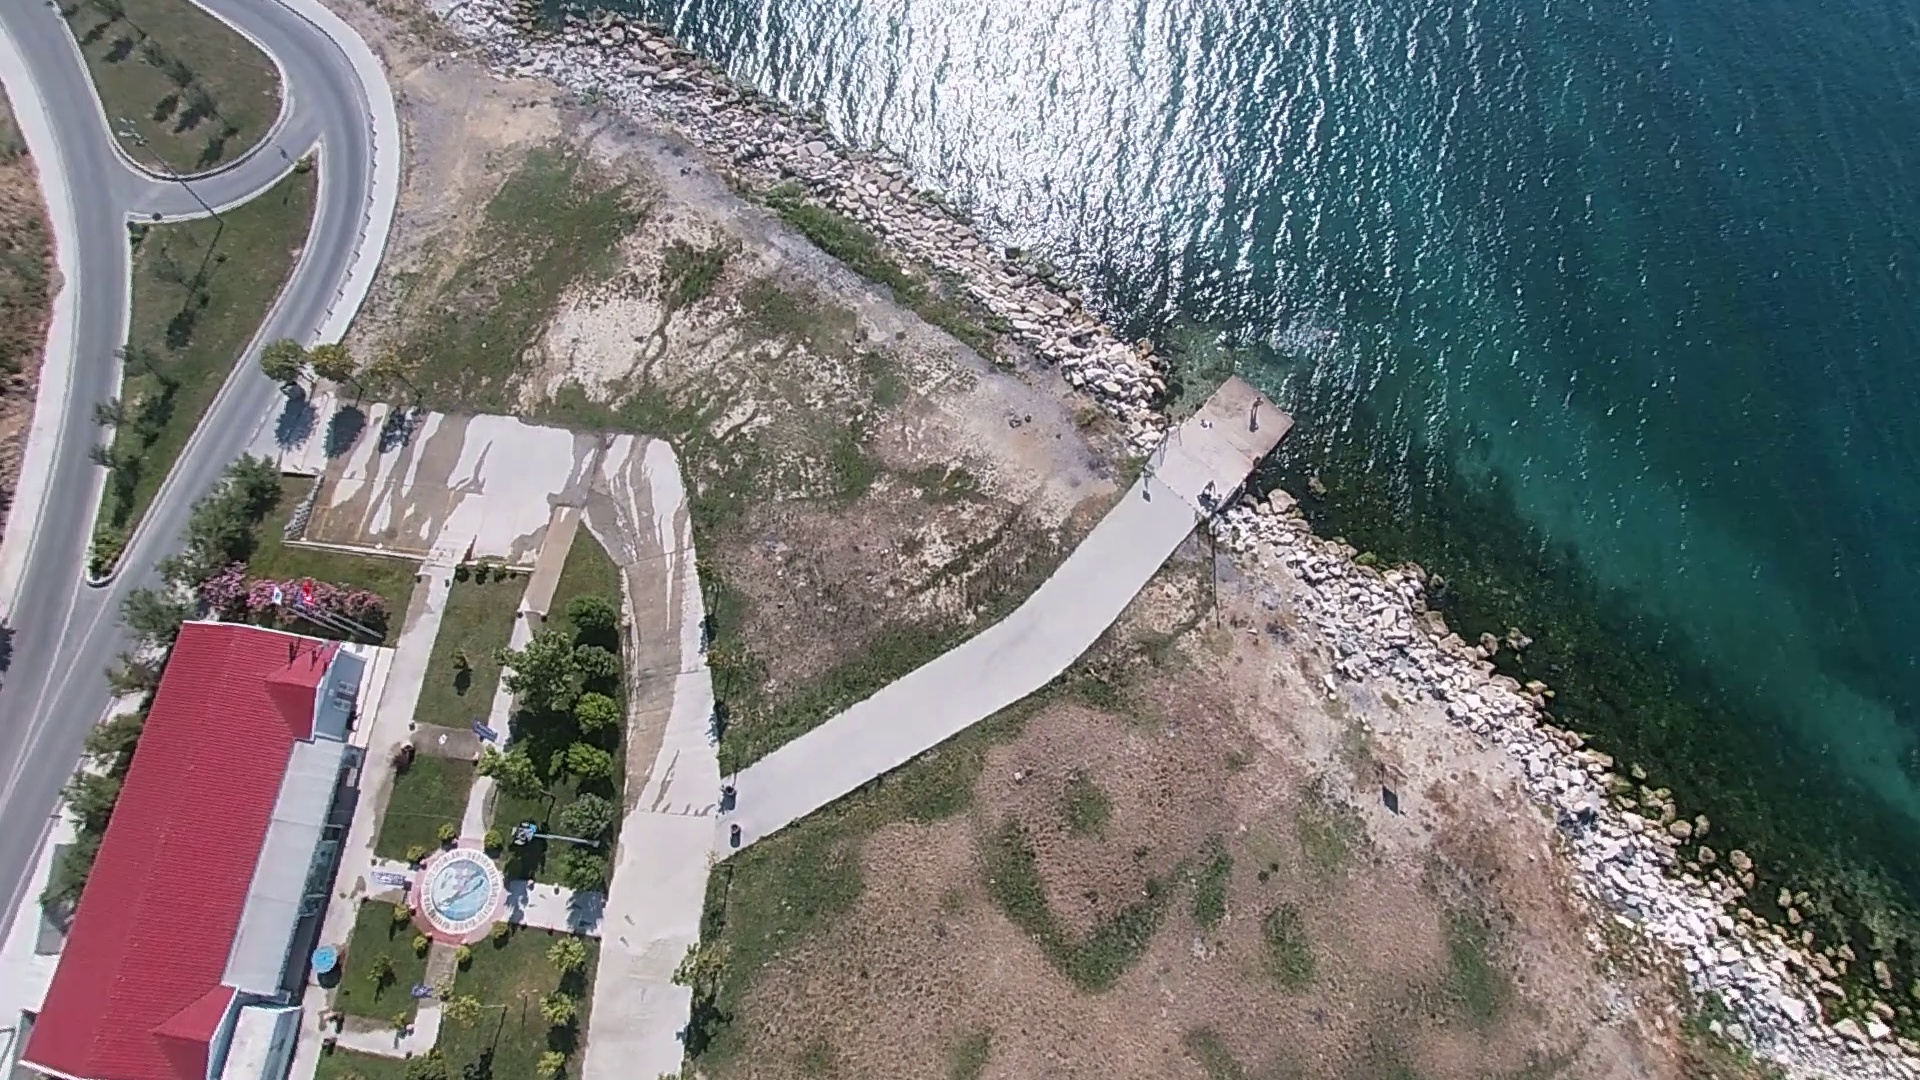insan: (1243, 388, 1269, 426), (1201, 474, 1218, 498)
